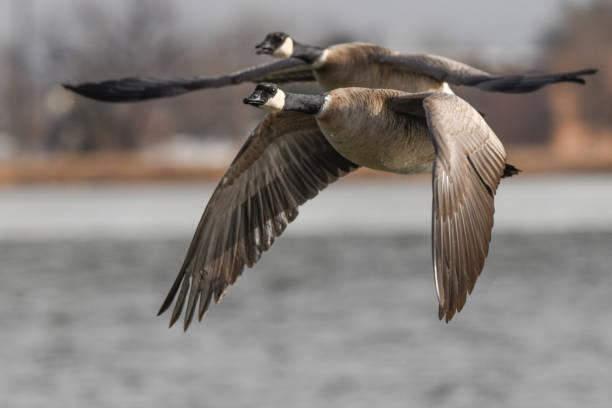Canadian-Goose: (155, 81, 515, 339), (58, 28, 599, 109)
